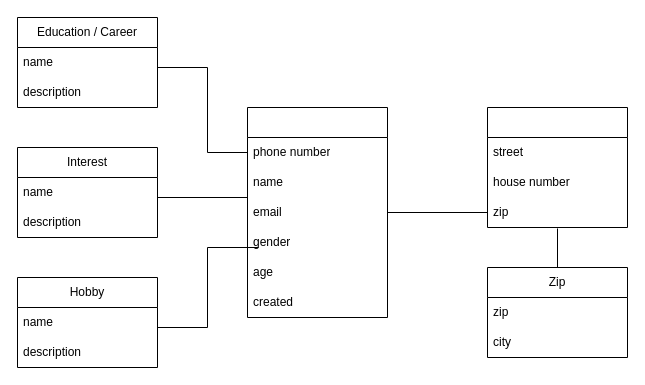
This 645x385 diagram has some shape labels left out. The box of each missing label's shape, as (x1, y1, x2, y2) in pixels:
Address: (486, 106, 628, 228)
Person: (246, 106, 388, 318)
